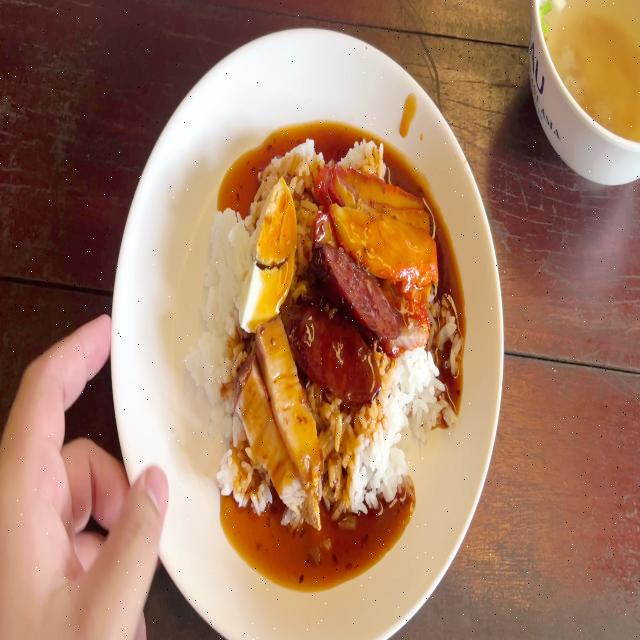boiled_egg: (237, 181, 297, 329)
chainese_sausage: (301, 248, 394, 396)
crispy_pork: (240, 319, 315, 509)
red_pork: (325, 160, 435, 275)
red_pork_and_crispy_pork: (190, 137, 448, 540)
rice: (192, 215, 246, 478), (330, 410, 411, 499), (393, 361, 438, 421)
